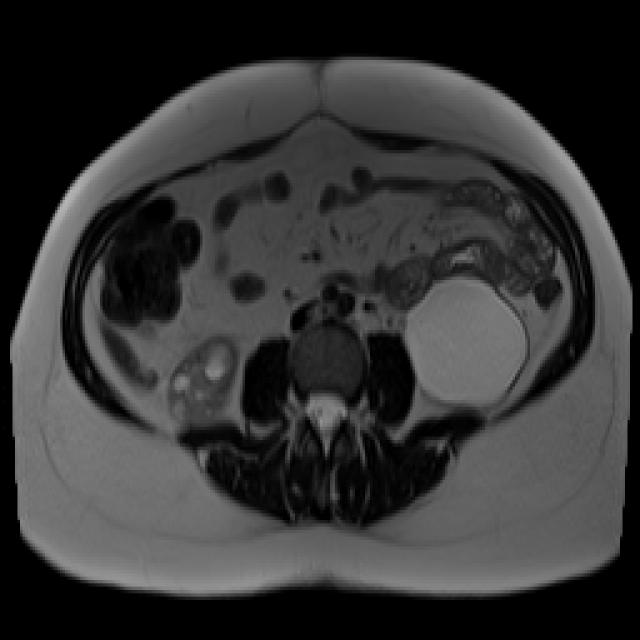sag: (166, 331, 239, 430)
sol: (403, 272, 533, 409)
